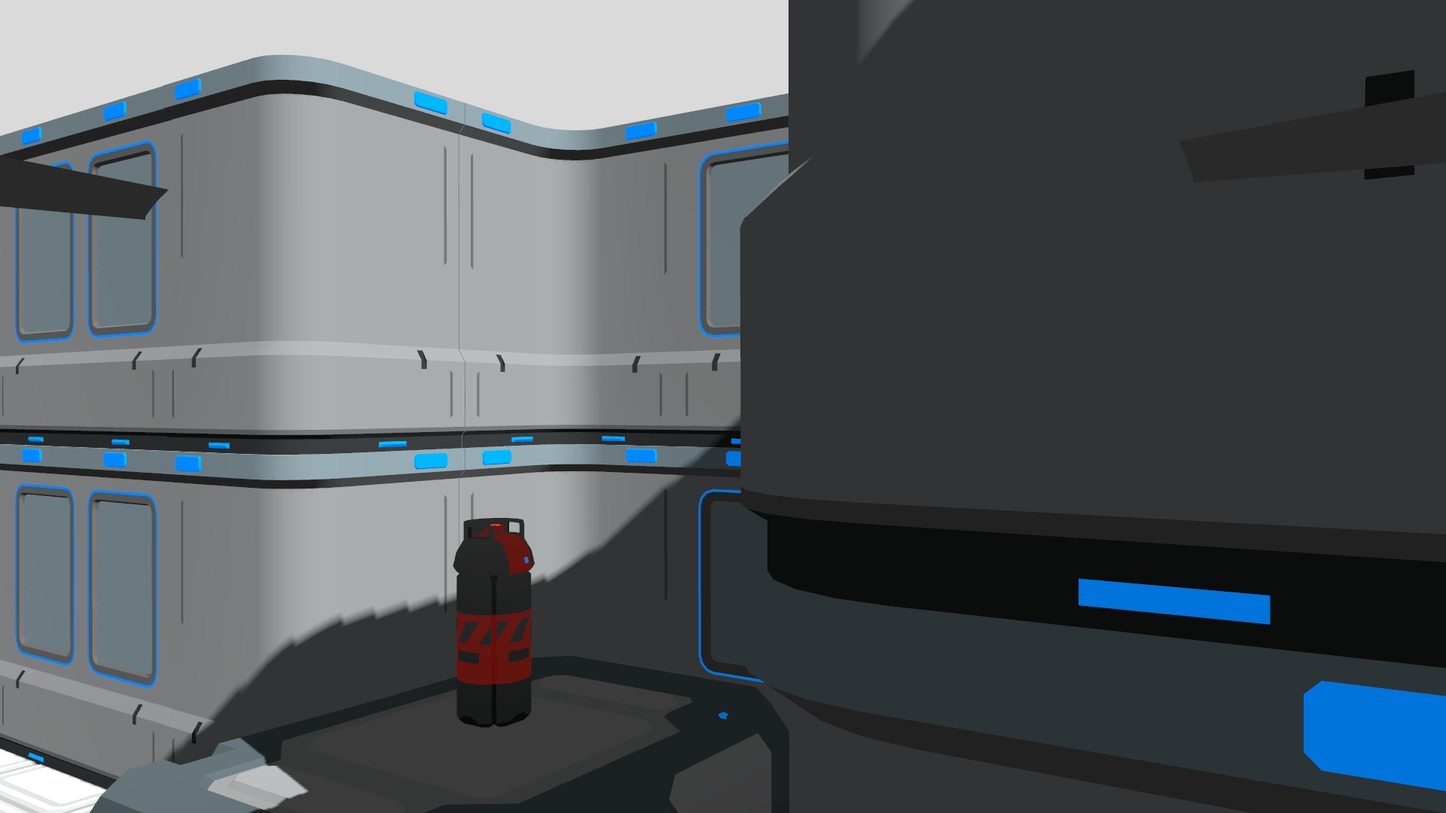red_barrel: (448, 514, 535, 729)
